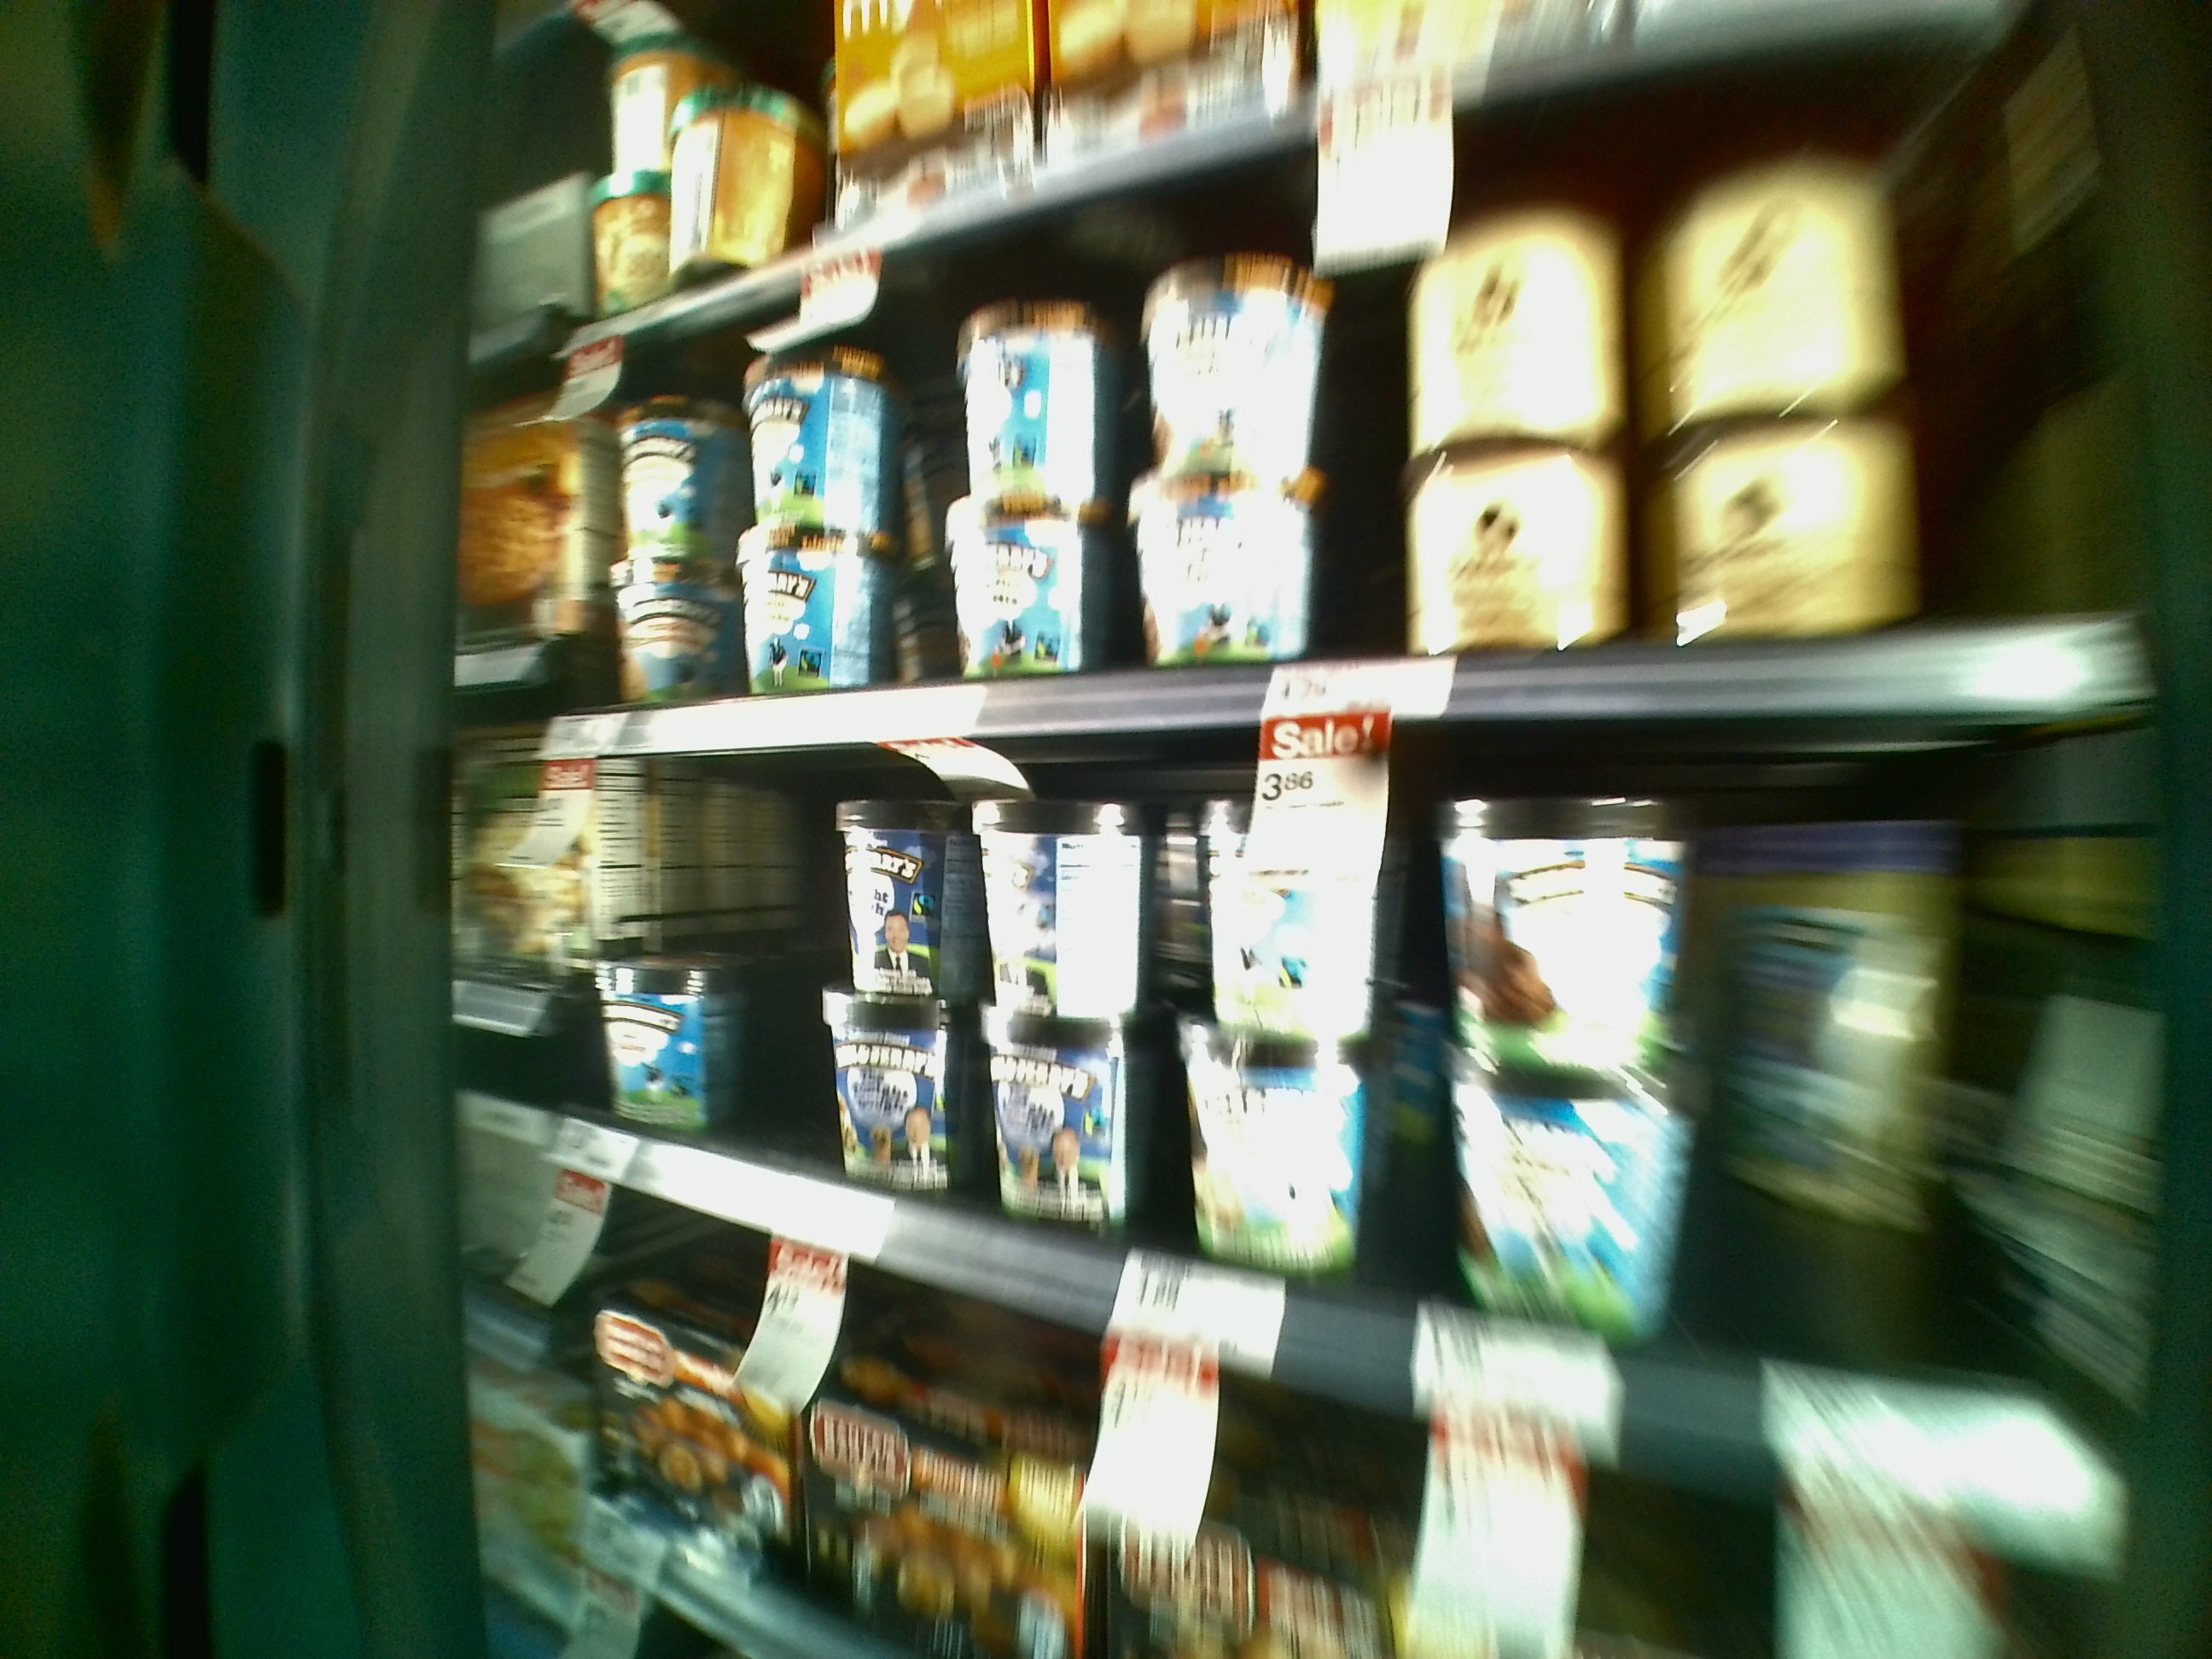shelf: (547, 662, 2104, 1513), (578, 173, 2104, 727)
